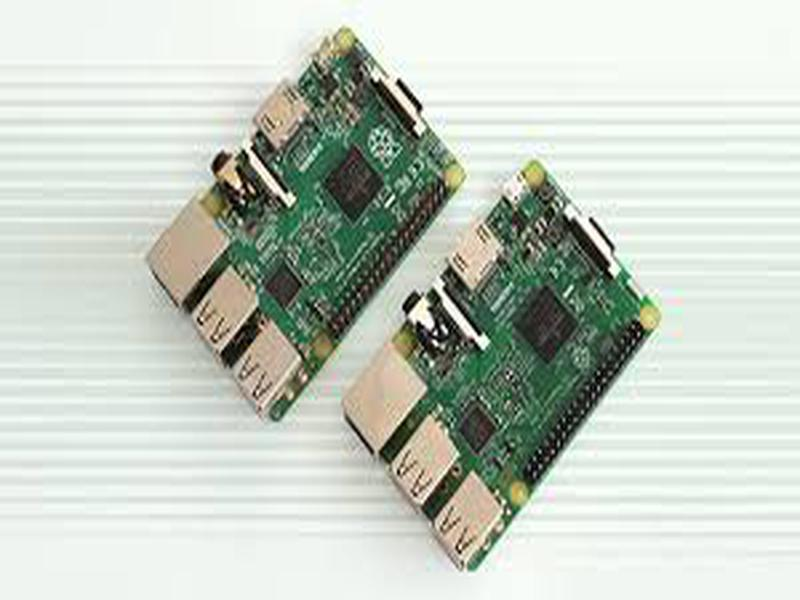Raspberry_Pi_3: (338, 155, 678, 577), (135, 28, 476, 428)
